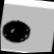correct: (0, 16, 34, 47)
